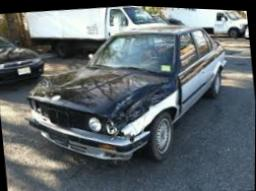Bonnet: (26, 70, 72, 98)
Door: (171, 73, 185, 113)
Fender: (101, 72, 181, 142)
